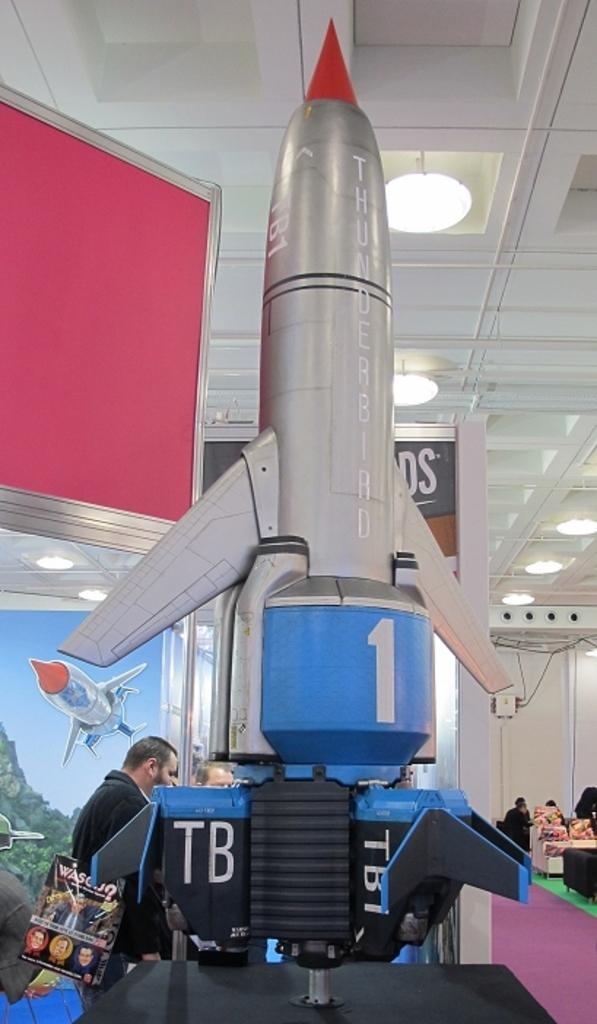Missile: (128, 37, 479, 893)
